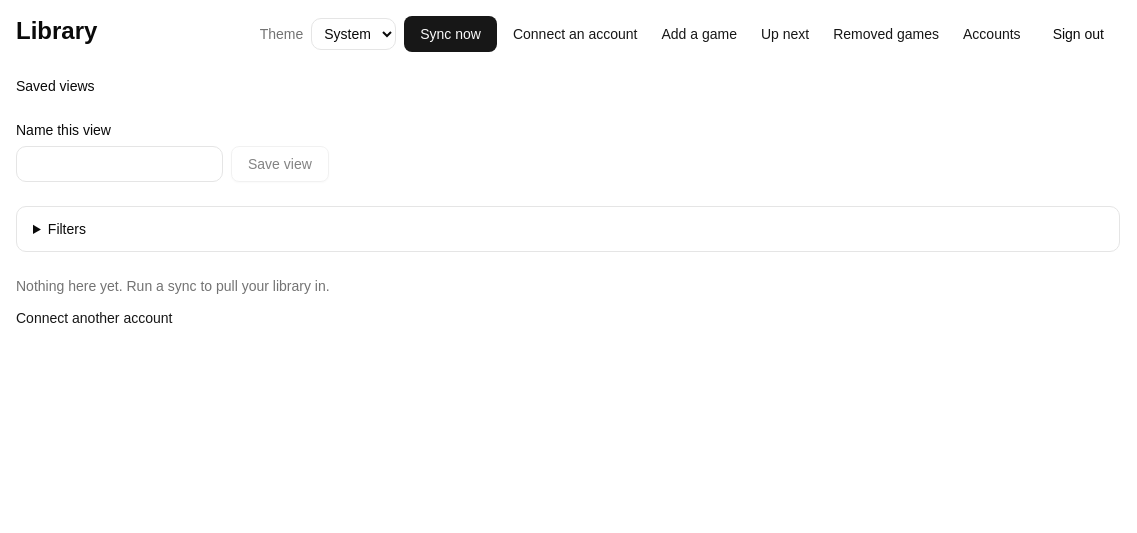
Test: routing › returns to the login screen after signing out
The image size is (1137, 533).
Step 1. Click the button "Sign out" → (1078, 34), box x1=1037 y1=16 x2=1120 y2=52
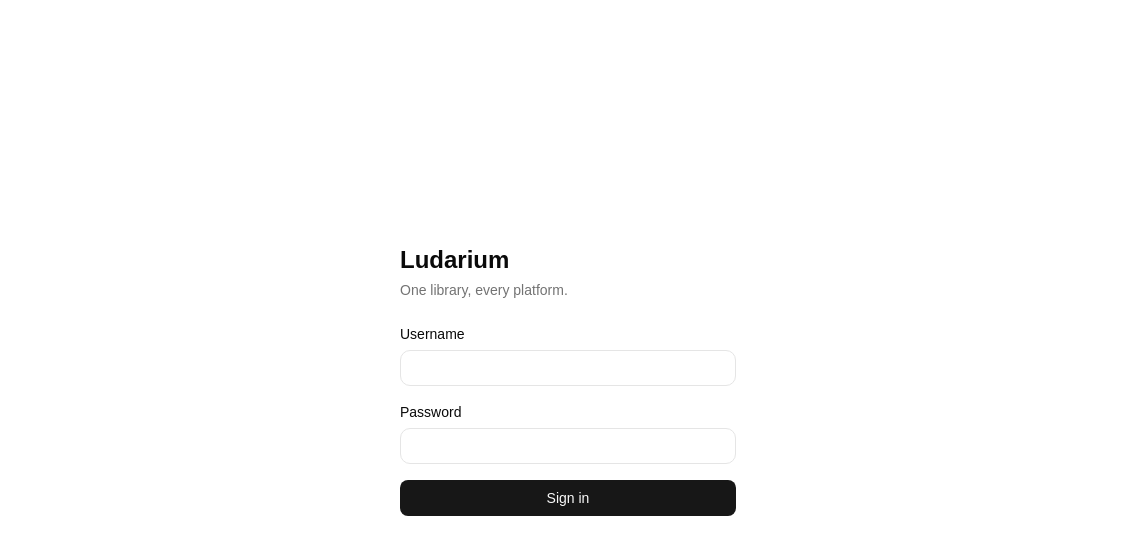
Now the button "Sign in" is shown, box x1=400 y1=480 x2=736 y2=516
